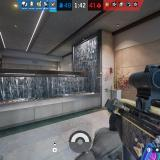Friend_label: (68, 75, 81, 81), (86, 56, 97, 62), (97, 72, 106, 78)
